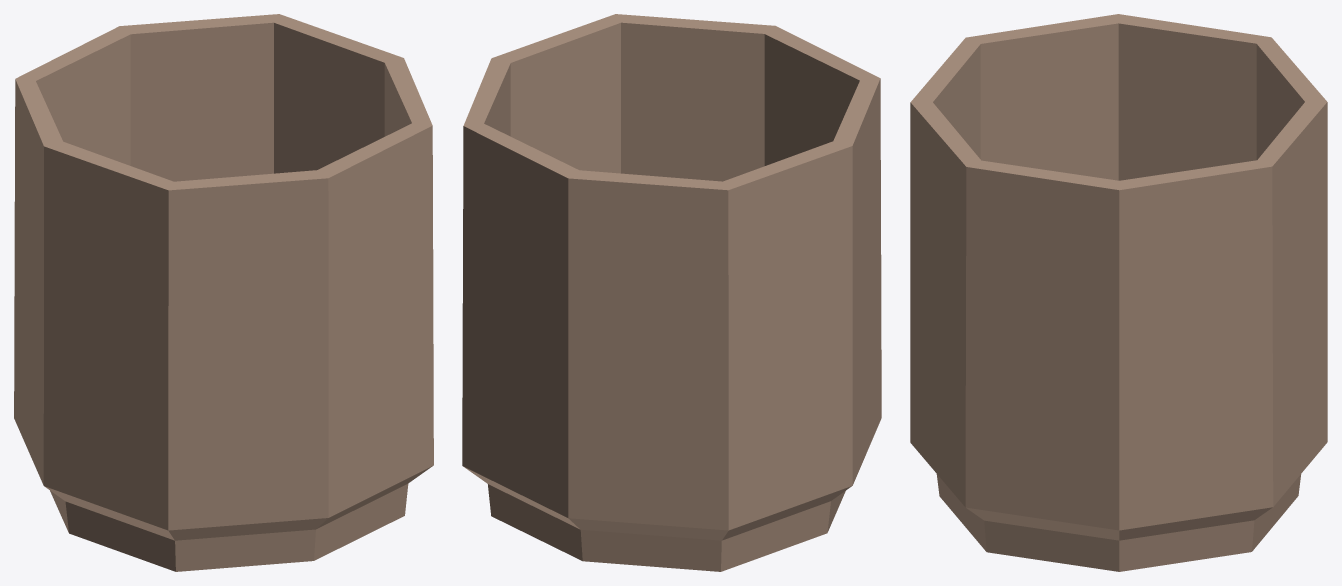
File: Glass_2.fbx
3 renders of one model, left to right at view 1: azimuth 30°, elevation 25°; view 2: azimuth 150°, elevation 25°; view 3: azimuth 270°, elevation 25°, orthographic.
Parts seen in each view (by area): view 1: Glass_2; view 2: Glass_2; view 3: Glass_2.
Part boxes in pixels (<box>): Glass_2: <box>14,14,433,571</box>; Glass_2: <box>462,14,881,571</box>; Glass_2: <box>910,14,1327,571</box>.
Bounding box in the file's own units: 9.2 × 9.2 × 9.58.
